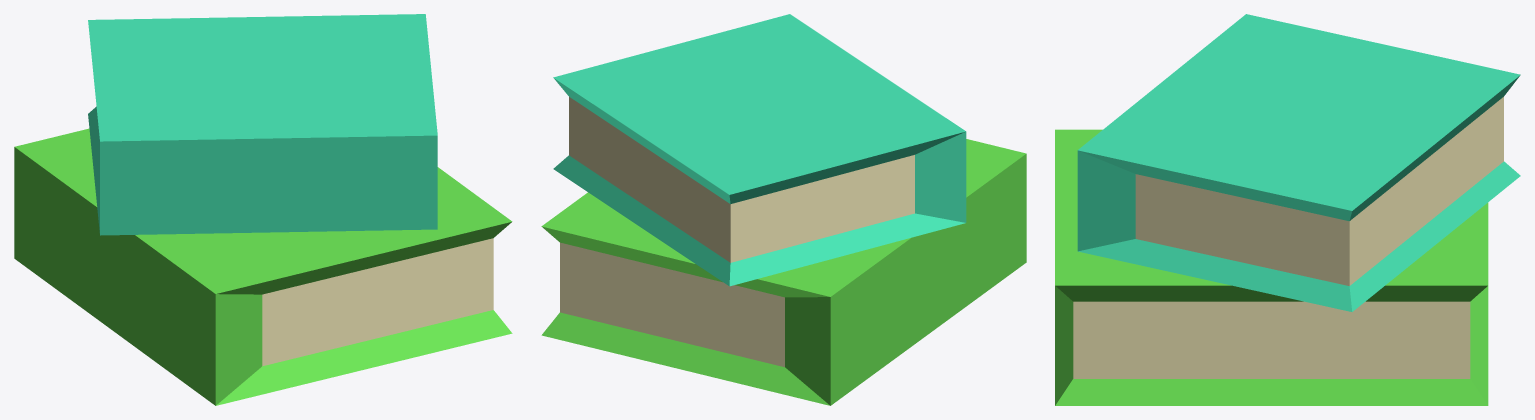
File: bookpile.glb
The picture shows the model from 3 angles, left to right: view 1: azimuth 30°, elevation 25°; view 2: azimuth 150°, elevation 25°; view 3: azimuth 270°, elevation 25°; orthographic projection. The views are drawn at different scales.
Visible parts, largest first — view 1: Cube; view 2: Cube; view 3: Cube.
Boxes of the visible parts, x1,y1,x2,y2 form: Cube: (14,14,512,405); Cube: (541,14,1026,405); Cube: (1055,14,1520,405).
Bounding box in the file's own units: 1.67 × 0.8751 × 1.67.
